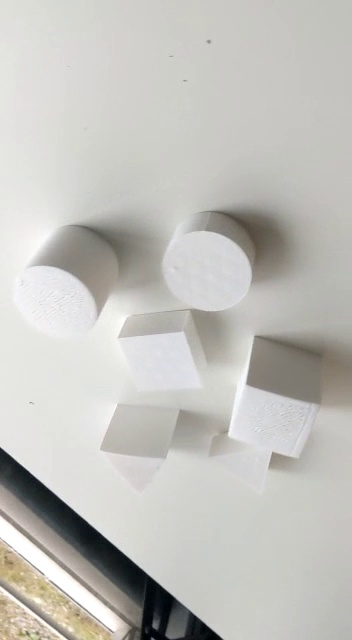Clyinder_short: (160, 210, 261, 314)
Cube: (225, 334, 327, 462)
Cube_short: (115, 310, 214, 396)
Cylinder: (13, 221, 121, 343)
Triangle: (100, 399, 185, 500)
Triangle_short: (205, 425, 275, 502)
